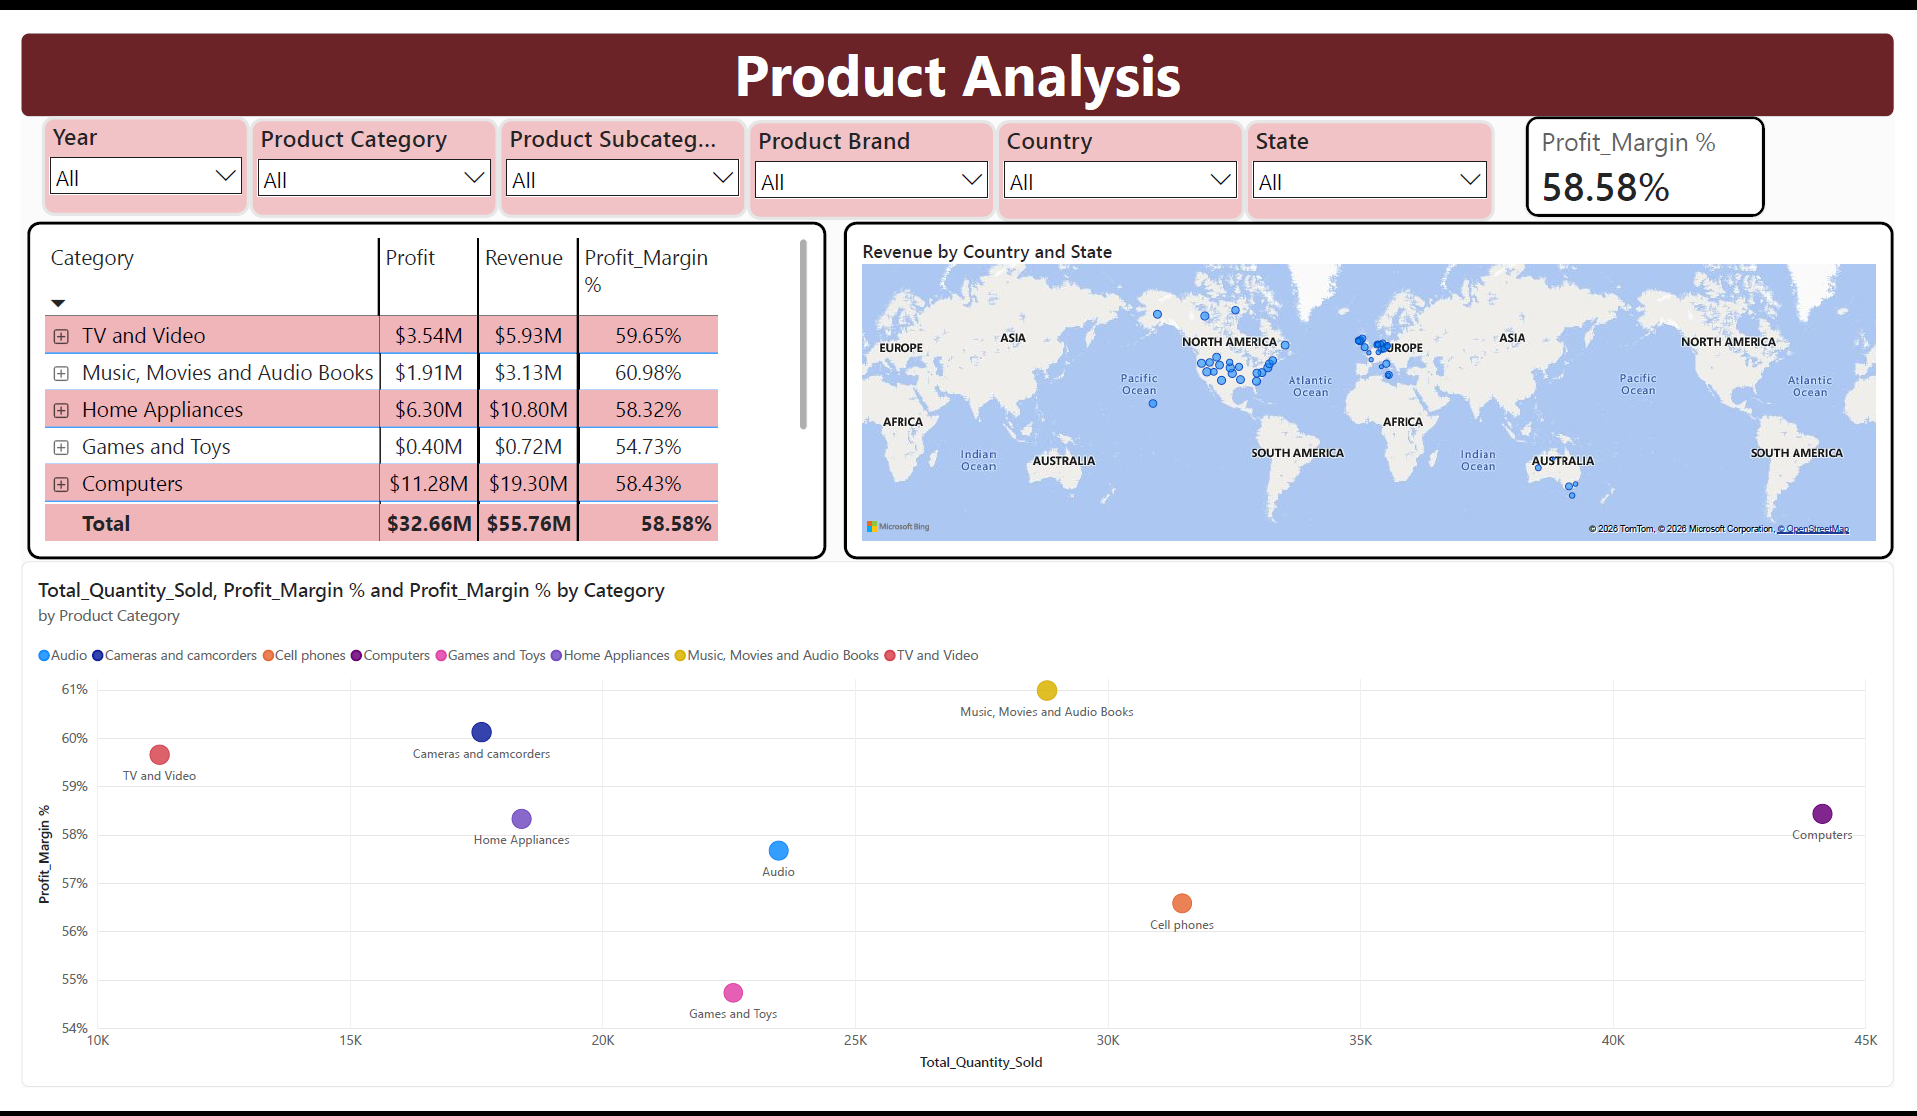

Layout of this report page (visuals, bound fields, positions):
{"tool":"powerbi","page":{"name":"Product Analysis","canvas":[1920,1080],"ordinal":1},"visuals":[{"type":"pivotTable","fields":{"Rows":["Products.Category","Products.Subcategory"],"Values":["Sales_Exchage_Merge.Profit","Sales_Exchage_Merge.Revenue","Sales_Exchage_Merge.Profit_Margin %"]},"box":[5.8,193.3,819.5,346],"z":0},{"type":"scatterChart","fields":{"X":["Sales_Exchage_Merge.Total_Quantity_Sold"],"Y":["Sales_Exchage_Merge.Profit_Margin %"],"Size":["Sales_Exchage_Merge.Profit_Margin %"],"Series":["Products.Category"]},"box":[0,541.2,1919.4,539.3],"z":1000},{"type":"textbox","box":[0,0,1919.4,85],"z":2000},{"type":"slicer","fields":{"Values":["Date_Table.Date Hierarchy.Year"]},"box":[21.3,85,212.6,102.4],"z":3000},{"type":"slicer","fields":{"Values":["Products.Category"]},"box":[233.9,87,255.1,102.4],"z":4000},{"type":"slicer","fields":{"Values":["Stores.Country"]},"box":[999.3,88.9,255.1,104.4],"z":5000},{"type":"slicer","fields":{"Values":["Stores.State"]},"box":[1254.4,88.9,255.1,104.4],"z":6000},{"type":"slicer","fields":{"Values":["Products.Brand"]},"box":[744.2,88.9,255.1,102.4],"z":7000},{"type":"slicer","fields":{"Values":["Products.Subcategory"]},"box":[489,87,255.1,102.4],"z":8000},{"type":"map","fields":{"Category":["Stores.Country","Stores.State"],"Size":["Sales_Exchage_Merge.Revenue"]},"box":[842.7,193.3,1076.6,346],"z":9000},{"type":"cardVisual","fields":{"Data":["Sales_Exchage_Merge.Profit_Margin %"]},"box":[1541.5,84.7,245.9,103.3],"z":10000}]}

Visuals, with their boxes on the page's 1920x1080 design canvas (x1, y1, x2, y2). These are canvas units, not pixel positions in the 1917x1116 screenshot, which may show the page scaled, cropped or inside an application window:
pivotTable - Products.Category x Products.Subcategory: locate(6, 193, 825, 539)
scatterChart - Sales_Exchage_Merge.Total_Quantity_Sold x Sales_Exchage_Merge.Profit_Margin %: locate(0, 541, 1919, 1080)
textbox: locate(0, 0, 1919, 85)
slicer - Date_Table.Date Hierarchy.Year: locate(21, 85, 234, 187)
slicer - Products.Category: locate(234, 87, 489, 189)
slicer - Stores.Country: locate(999, 89, 1254, 193)
slicer - Stores.State: locate(1254, 89, 1510, 193)
slicer - Products.Brand: locate(744, 89, 999, 191)
slicer - Products.Subcategory: locate(489, 87, 744, 189)
map - Stores.Country x Stores.State: locate(843, 193, 1919, 539)
cardVisual - Sales_Exchage_Merge.Profit_Margin %: locate(1542, 85, 1787, 188)
